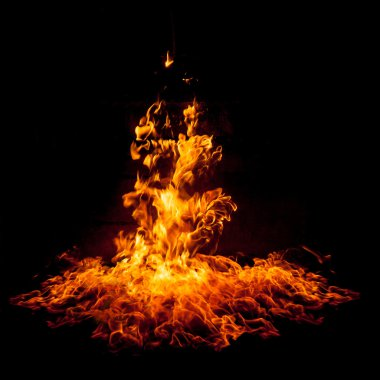fire: (48, 100, 318, 329)
